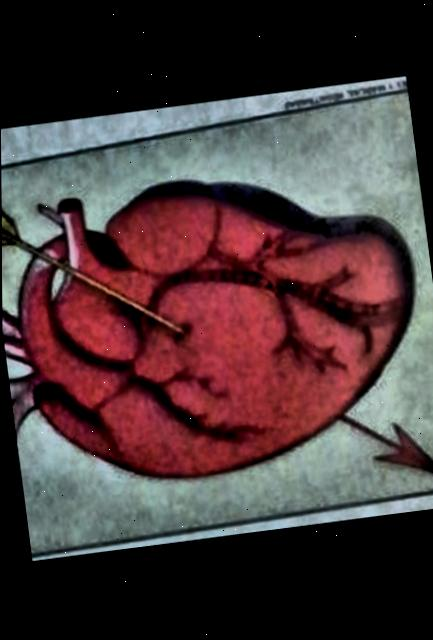El Corazon: (1, 89, 433, 553)
